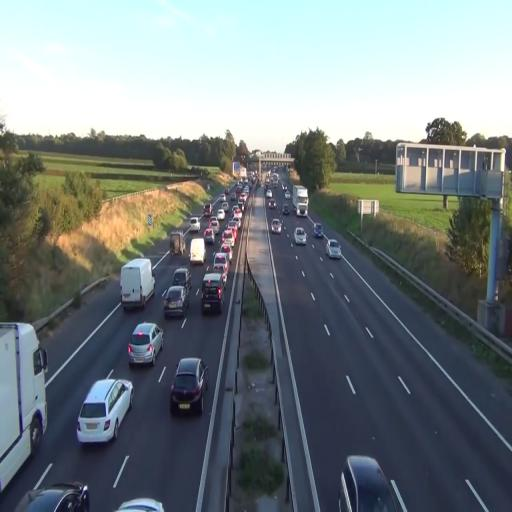vehicle: (0, 322, 49, 496), (77, 374, 133, 445), (13, 461, 90, 512), (339, 456, 408, 512), (16, 482, 90, 512), (170, 356, 205, 416), (120, 258, 156, 312), (127, 322, 163, 366), (200, 270, 224, 314), (162, 284, 188, 324), (292, 185, 308, 216), (294, 185, 308, 217), (213, 250, 229, 278), (327, 240, 341, 258), (294, 227, 307, 245), (271, 218, 283, 234), (313, 222, 323, 238)
